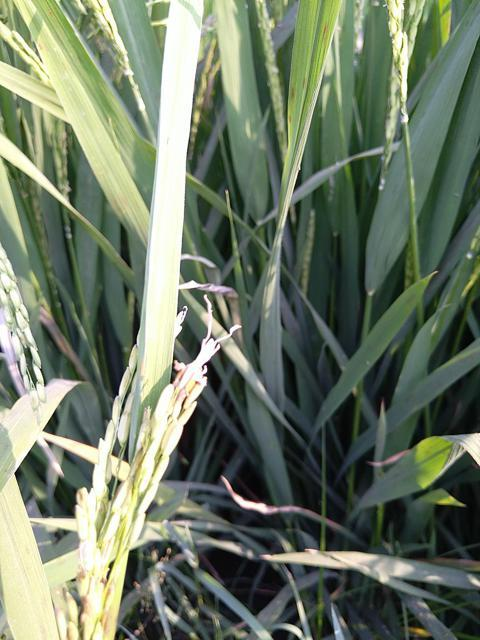Panicle Blight: (76, 572, 94, 632)
